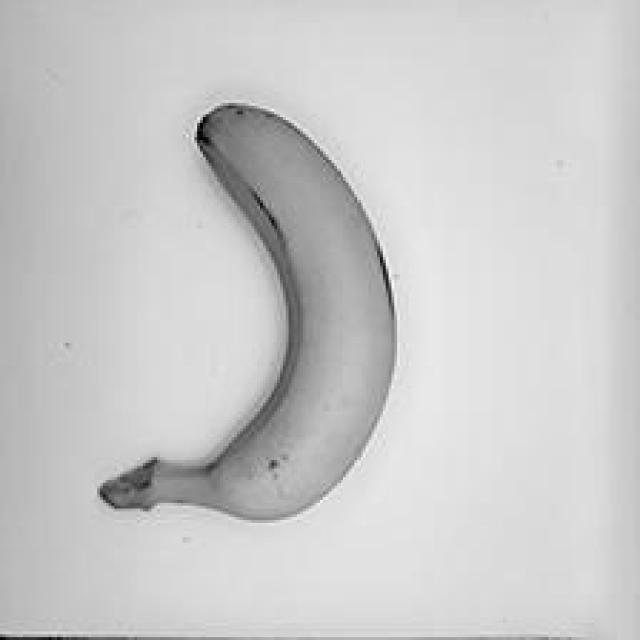Unripe: (77, 81, 414, 538)
